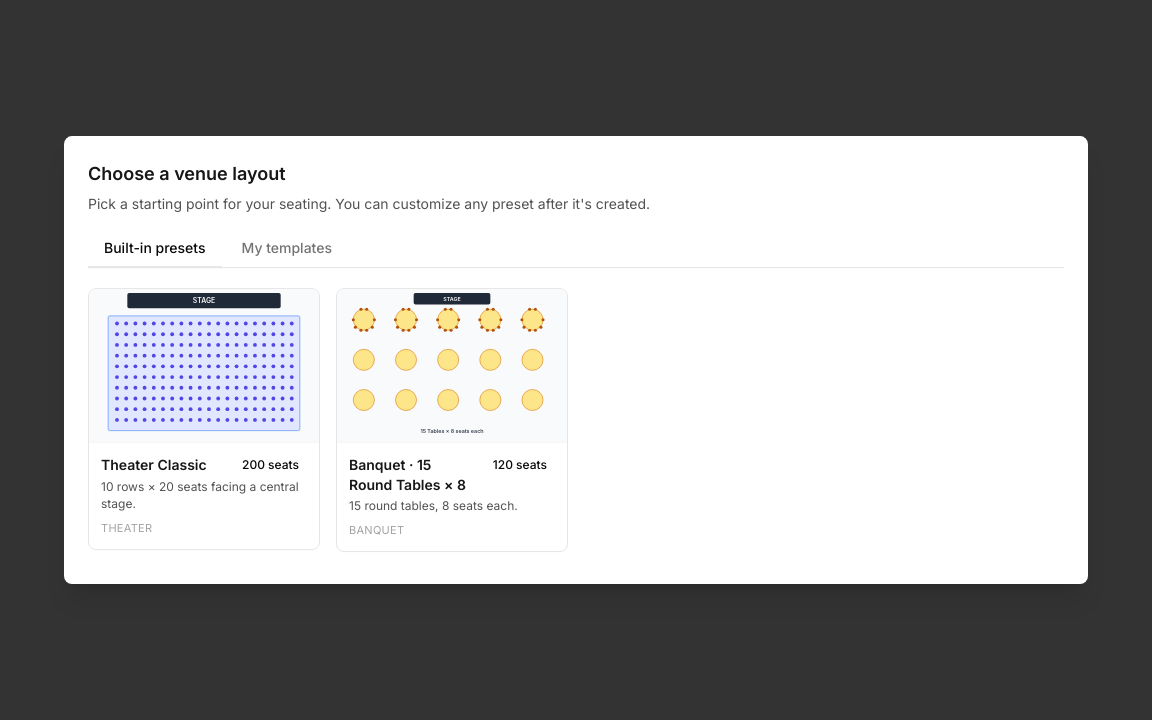
Test case: PresetLibraryModal — Mine tab (S8.10) › shows a friendly empty-state when the user has no saved templates
Click the tab with test id "preset-modal-tab-mine" at (287, 249), box x1=226 y1=230 x2=348 y2=268
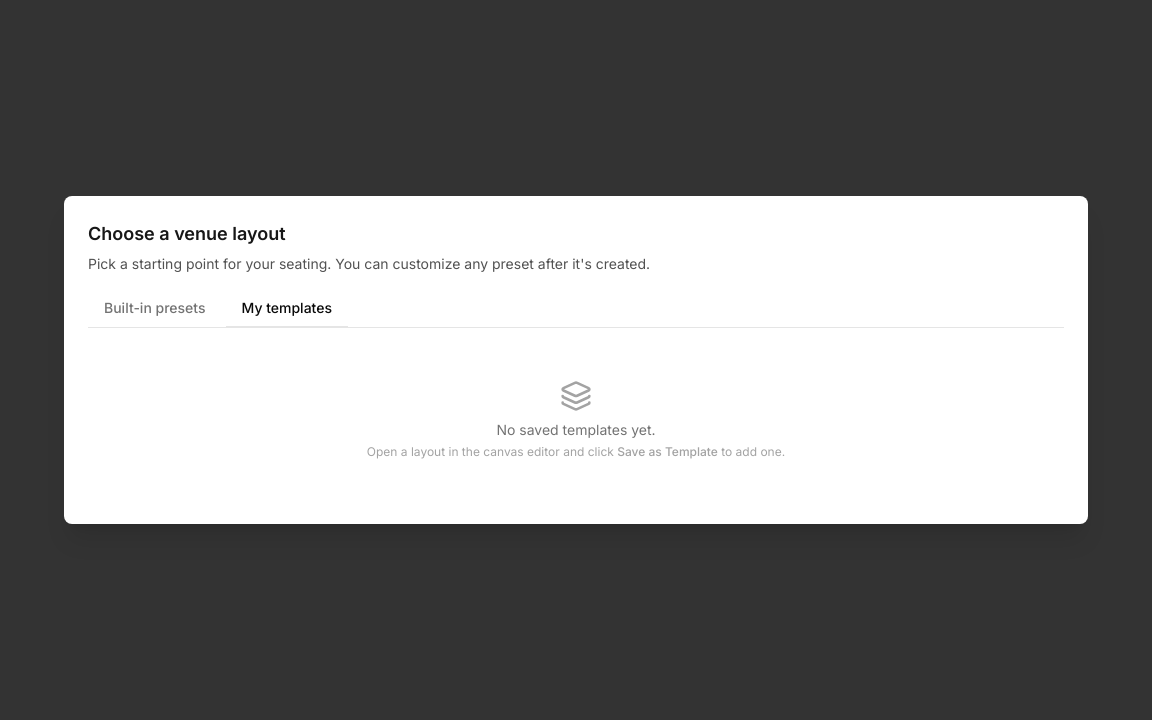
Check: the element with test id "mine-modal-empty" is shown, box x1=367 y1=380 x2=785 y2=459
Check: the text "Save as Template" is shown, box x1=617 y1=444 x2=718 y2=459
